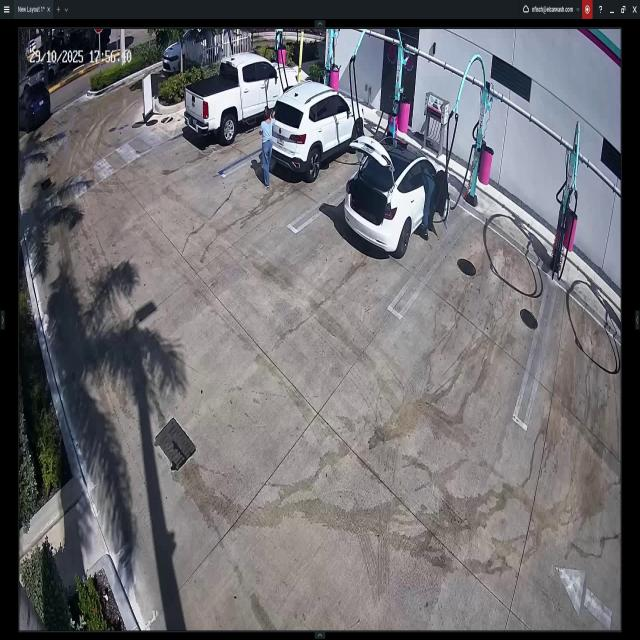Car: (346, 131, 449, 259), (178, 64, 297, 137), (274, 90, 363, 178), (160, 29, 218, 69), (15, 84, 51, 128)
